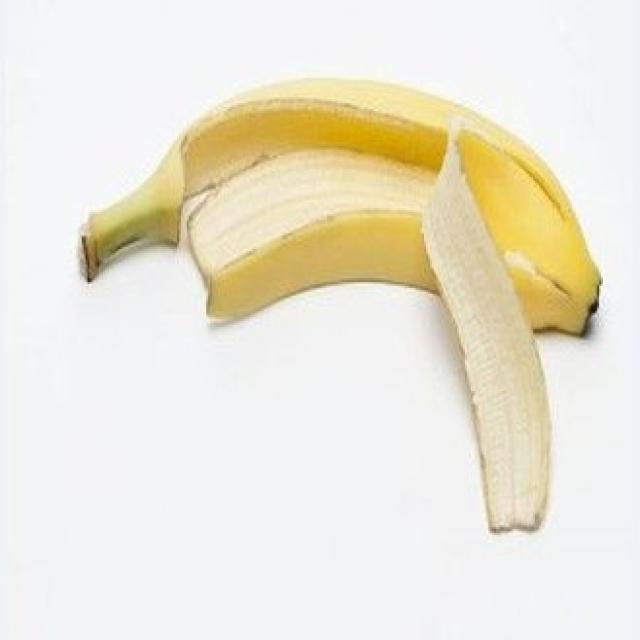-Kitchen waste - fruit-: (80, 71, 601, 535)
